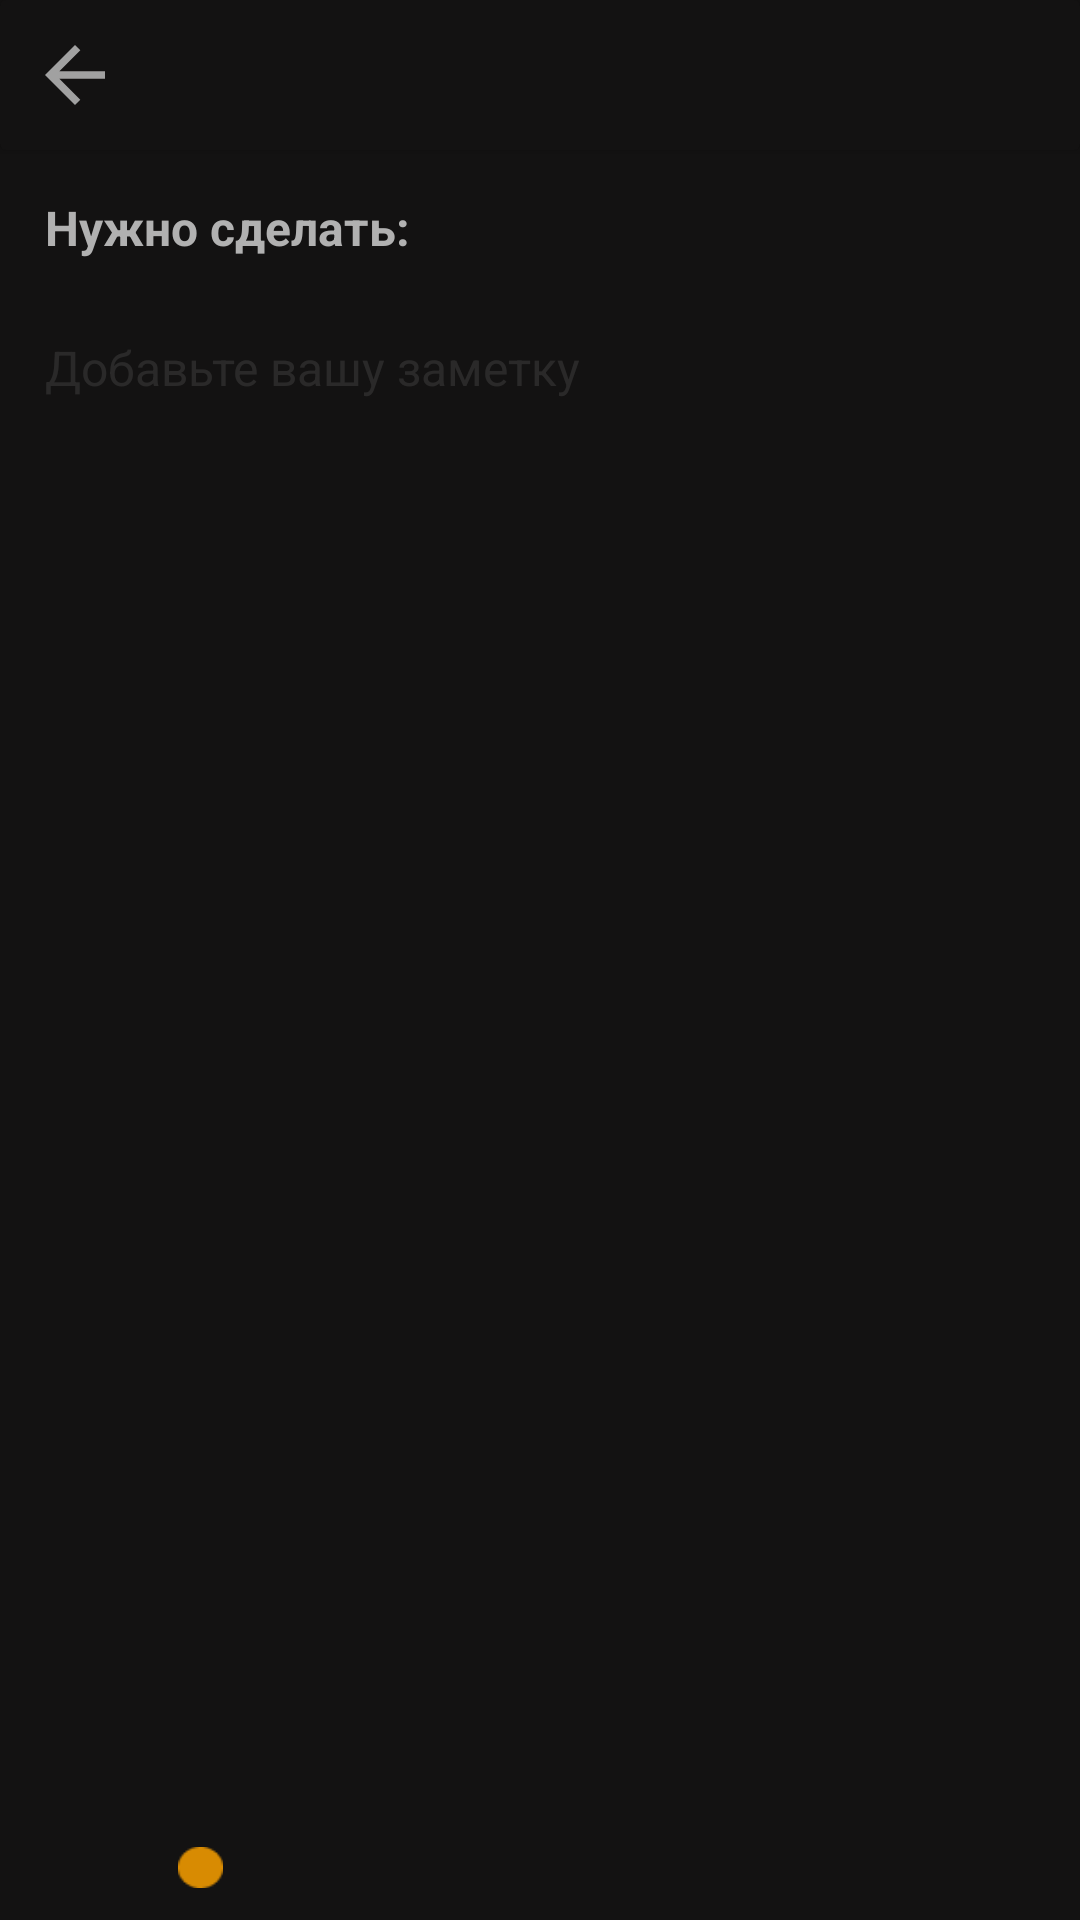

Point at icon controls on the screen. Image size 1080×1920, points as (x=x, y=y).
arrow back: (x=75, y=75)
